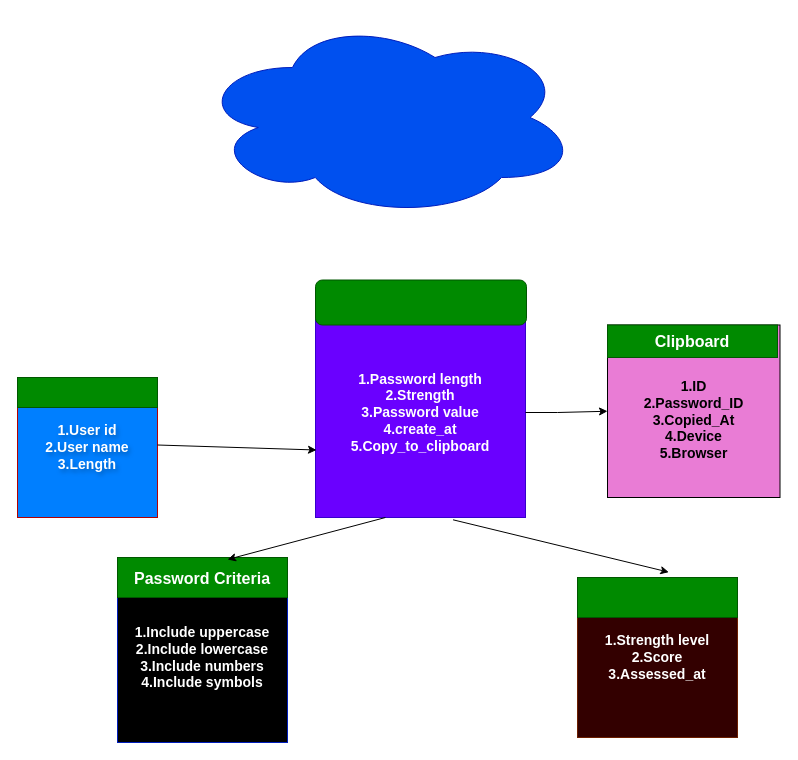
This 798x760 diagram has some shape labels left out. The shapes that lost their labels are listed below. From the top down, each one's centre as x and y in pixels, then its label:
the point at 387,117: PASSWORD GENERATOR APPLICATION ER- DIAGRAM
the point at 420,302: Password_settings
the point at 87,392: User
the point at 657,597: Strength
